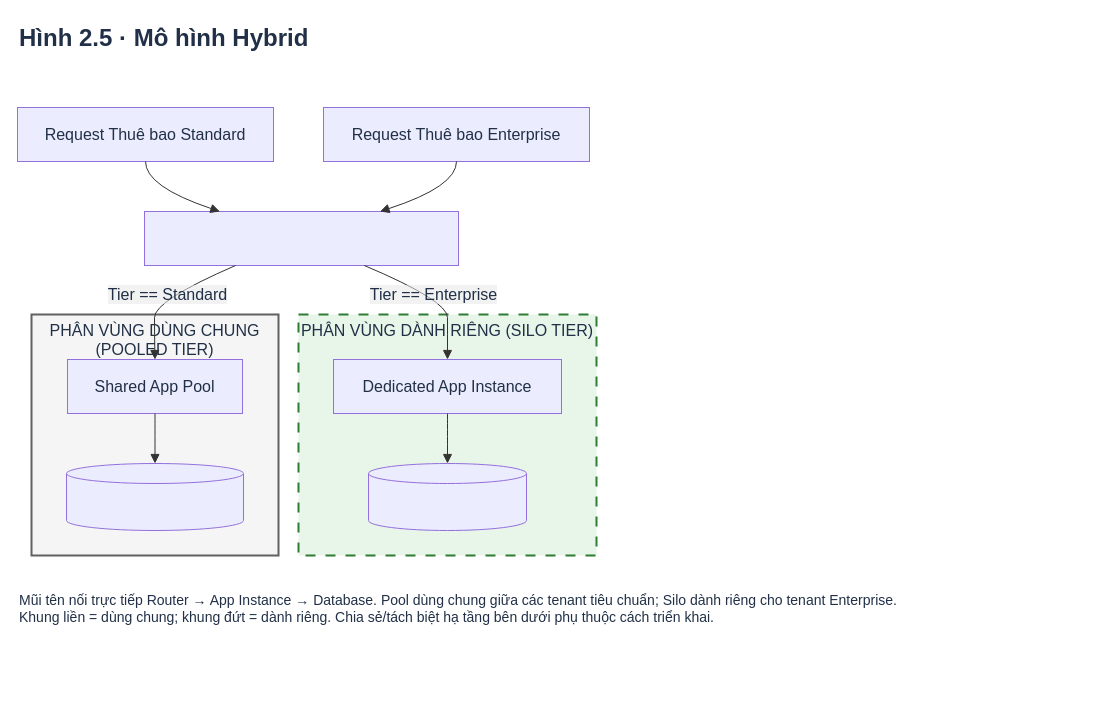
Some shapes in this 1105 by 702 pixel diagram are drawn without their labels. The centre of each missing label's shape, as x and y in pixels:
"API Gateway / Dynamic Tier Router" belongs at pixel 301 238.
"Dedicated Database" belongs at pixel 447 496.
"Shared Database + RLS" belongs at pixel 155 496.
